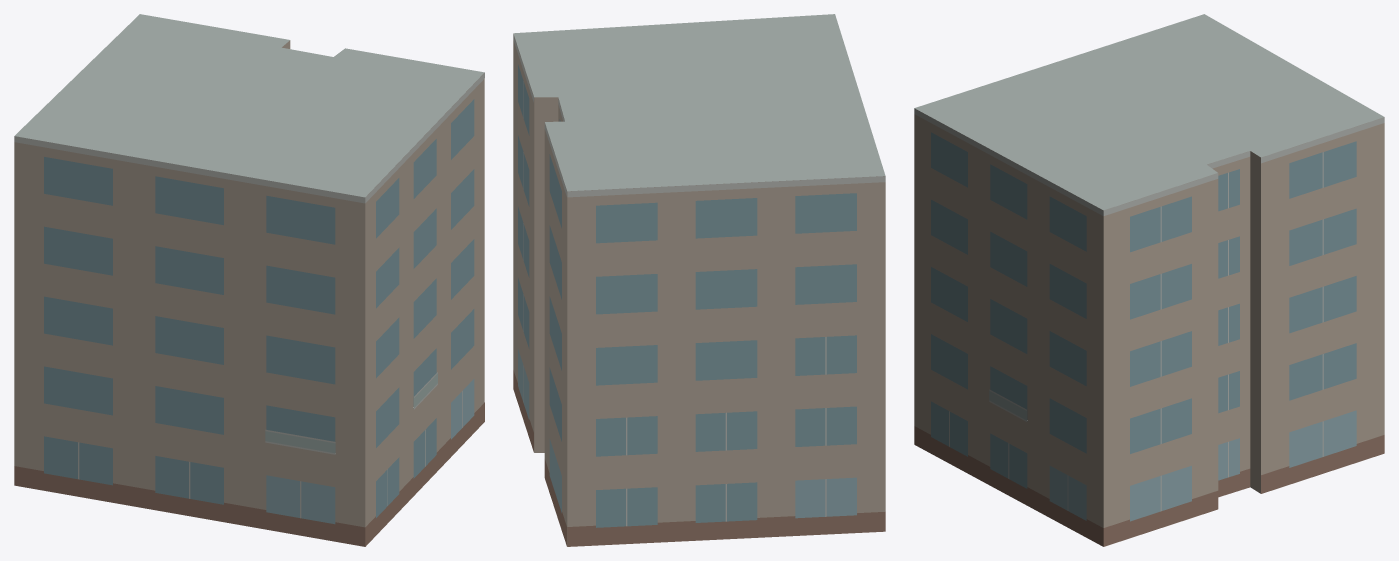
File: survey-upis-32728467.glb
3 renders of one model, left to right at view 1: azimuth 30°, elevation 25°; view 2: azimuth 150°, elevation 25°; view 3: azimuth 270°, elevation 25°, orthographic. The views are drawn at different scales.
Parts seen in each view (by area): view 1: survey-upis-32728467.tmp; view 2: survey-upis-32728467.tmp; view 3: survey-upis-32728467.tmp.
Boxes of the visible parts, bbox=[...] form: survey-upis-32728467.tmp: bbox=[14, 14, 484, 546]; survey-upis-32728467.tmp: bbox=[513, 14, 885, 546]; survey-upis-32728467.tmp: bbox=[914, 14, 1384, 546].
Size of the model in its own units: 17.67 by 14.1 by 17.88.
